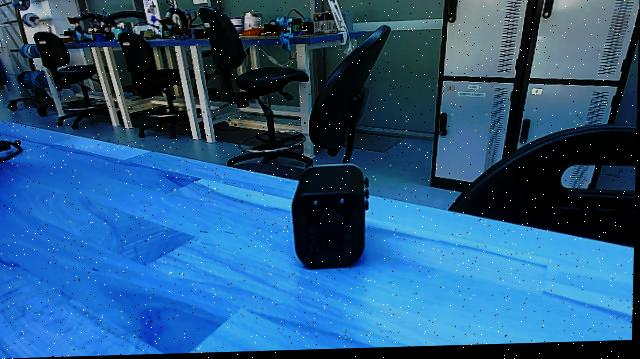adapter: (286, 161, 376, 280)
